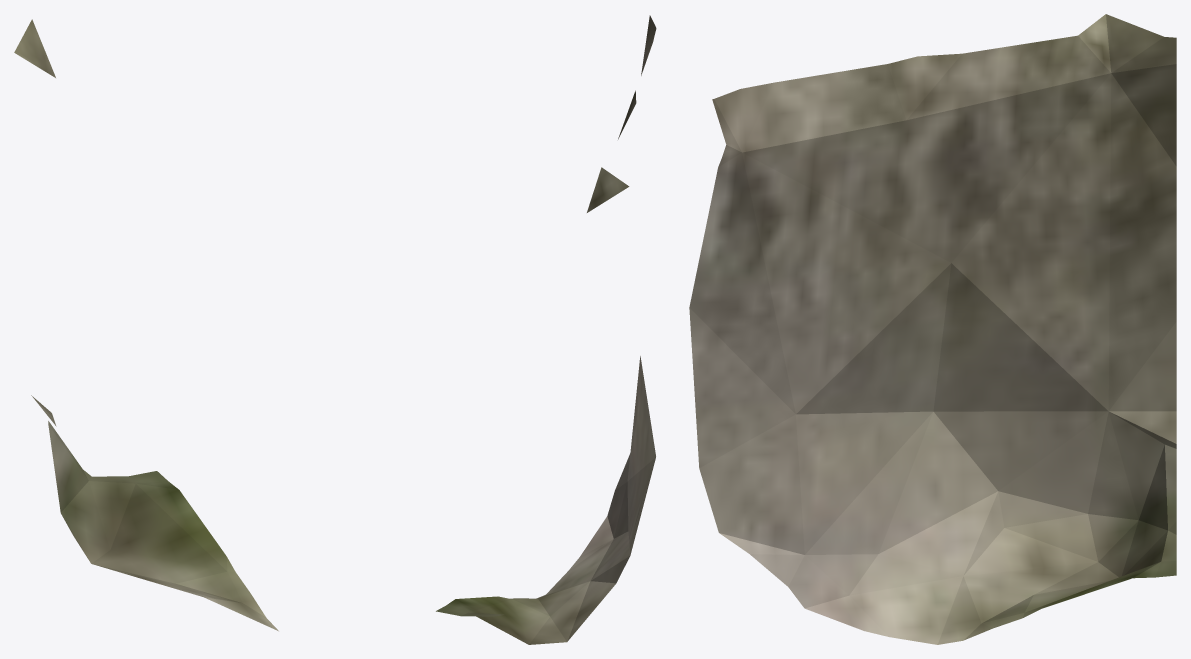
3 renders of one model, left to right at view 1: azimuth 30°, elevation 25°; view 2: azimuth 150°, elevation 25°; view 3: azimuth 270°, elevation 25°, orthographic. The views are drawn at different scales.
Size of the model in its own units: 0.2587 by 0.7721 by 0.6248.
Materials: 1 (1 with a texture image).
